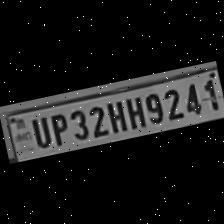1: (197, 74, 222, 113)
2: (158, 83, 184, 122), (83, 101, 109, 138)
3: (64, 105, 90, 142)
4: (176, 78, 202, 116)
9: (140, 89, 164, 126)
H: (121, 92, 146, 131), (102, 97, 128, 134)
P: (44, 109, 70, 147)
U: (26, 112, 51, 148)
